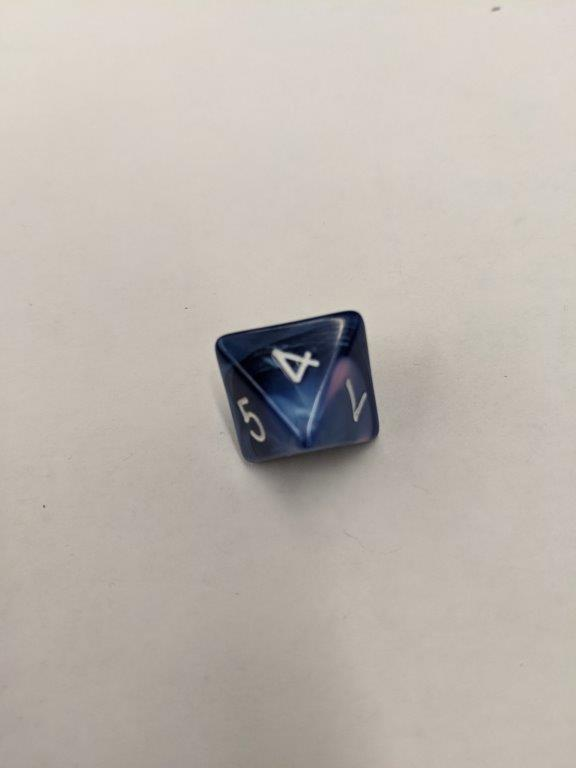d8-4: (213, 309, 382, 465)
